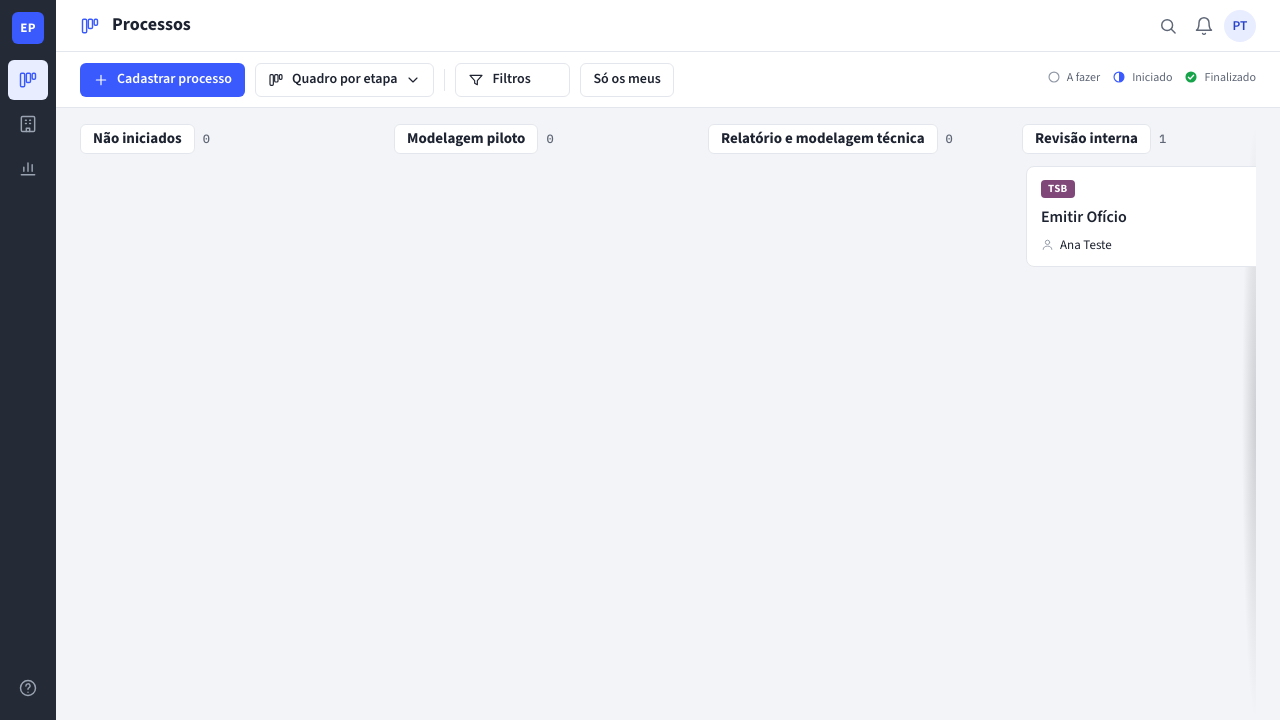
Test case: por setor o cabeçalho da coluna traz a sigla e o nome do setor, e a coluna vazia mantém a frase
This screenshot has width=1280, height=720.
What coordinates should you click on to do the following:
click the button "Quadro por etapa"
I would click on:
 (345, 80)
Its box is 255,62 -> 434,96.
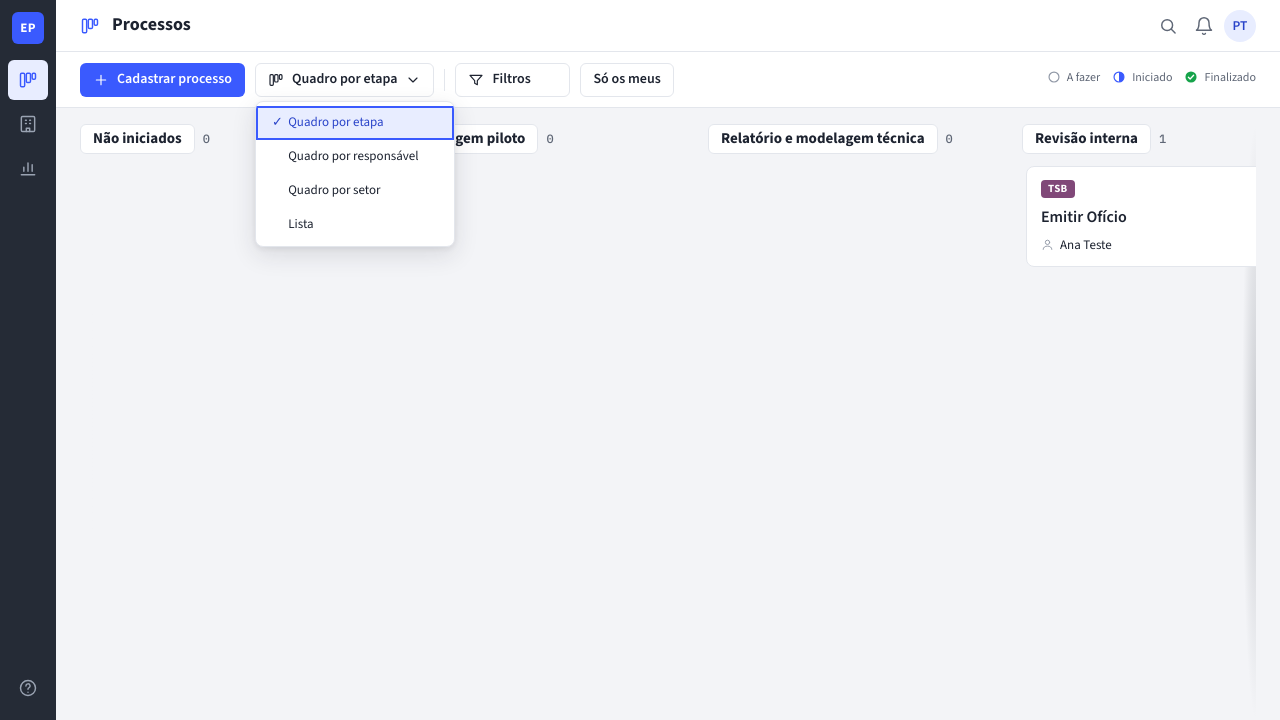
What coordinates should you click on to do the following:
click the menu item "Quadro por setor"
I would click on:
 (355, 190)
Its box is 256,174 -> 454,208.
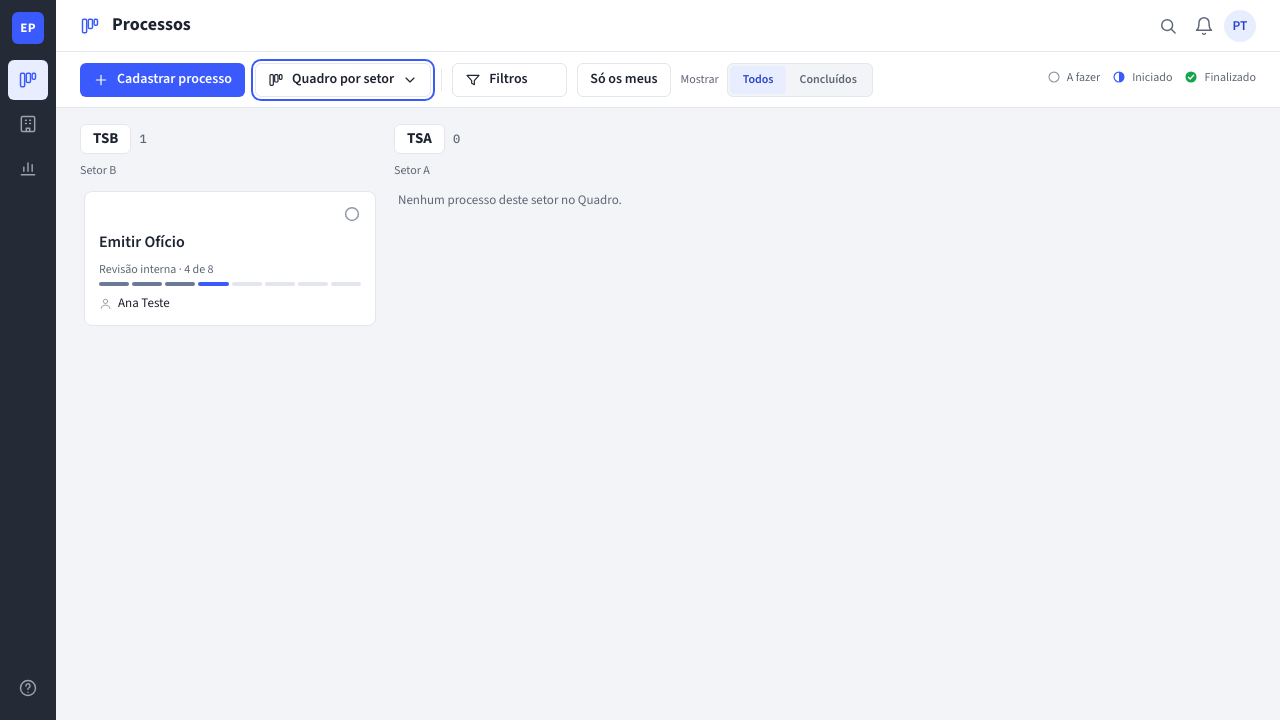
Check: the text with class "coluna-titulo-principal" reads "TSA", box 407,128 -> 432,149
Check: the text with class "coluna-titulo-nome" reads "Setor A", box 394,162 -> 430,179
Check: the text "Nenhum processo deste setor no Quadro." is shown, box 398,191 -> 622,209
